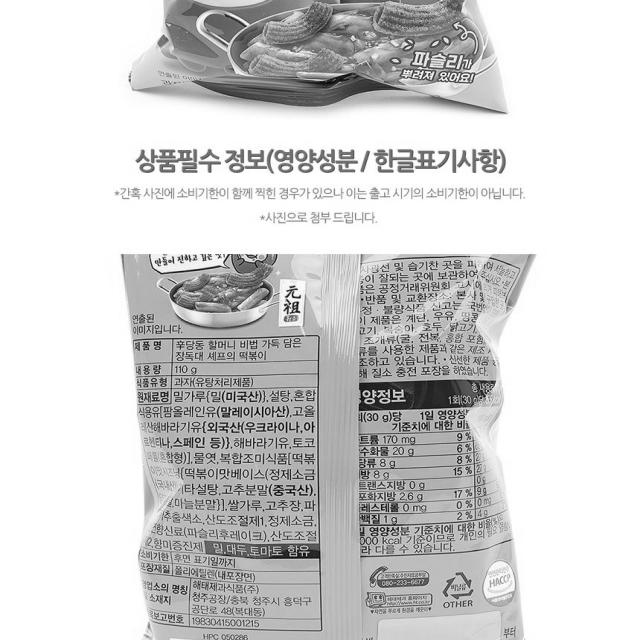Nutrition Label: (343, 368, 523, 566)
